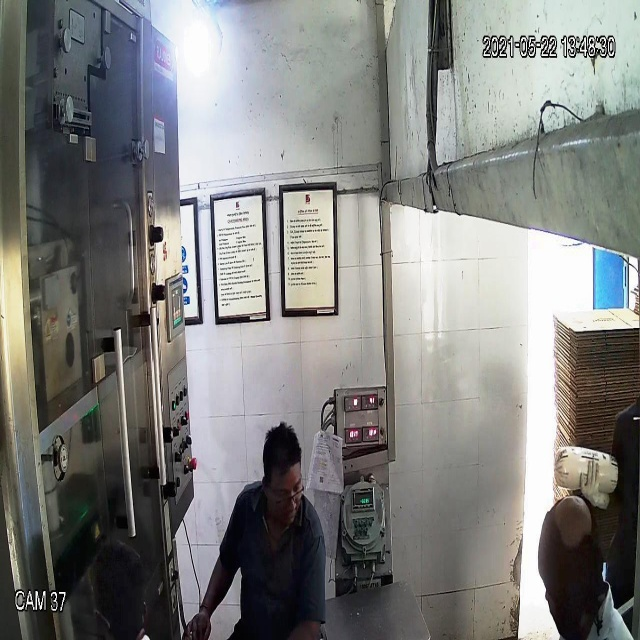Gafas: (254, 471, 307, 512)
